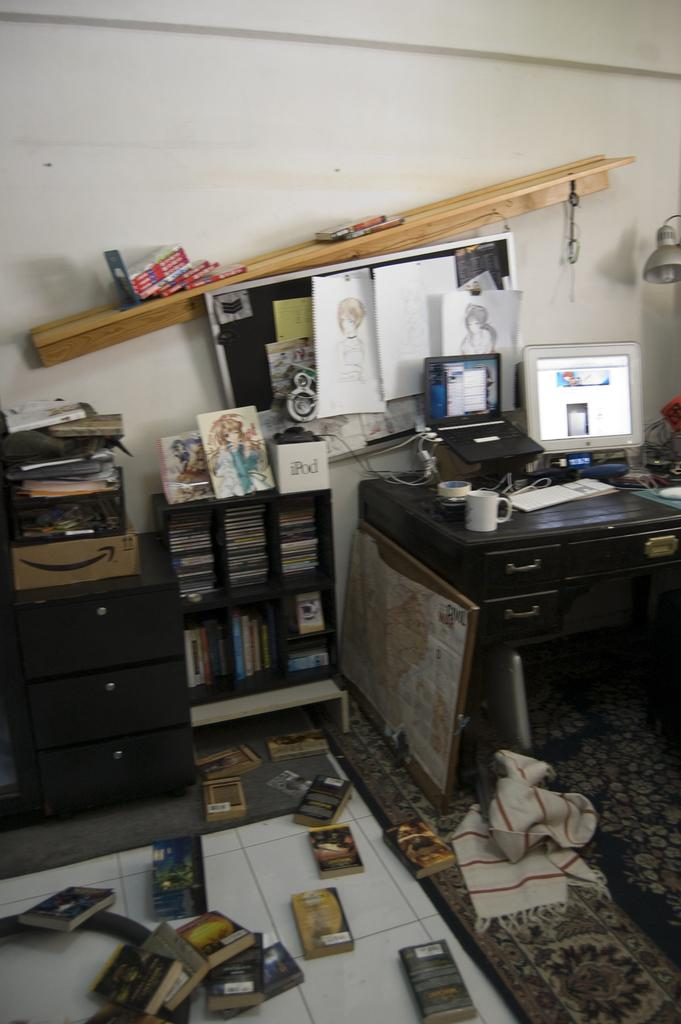cabinet_door: (26, 594, 176, 662), (41, 662, 186, 732), (46, 734, 189, 795), (566, 526, 681, 572), (483, 550, 552, 593), (492, 600, 551, 643)
handle: (503, 598, 543, 628), (642, 534, 678, 560), (508, 555, 538, 579), (102, 672, 118, 702), (95, 603, 109, 629), (111, 750, 124, 766)
